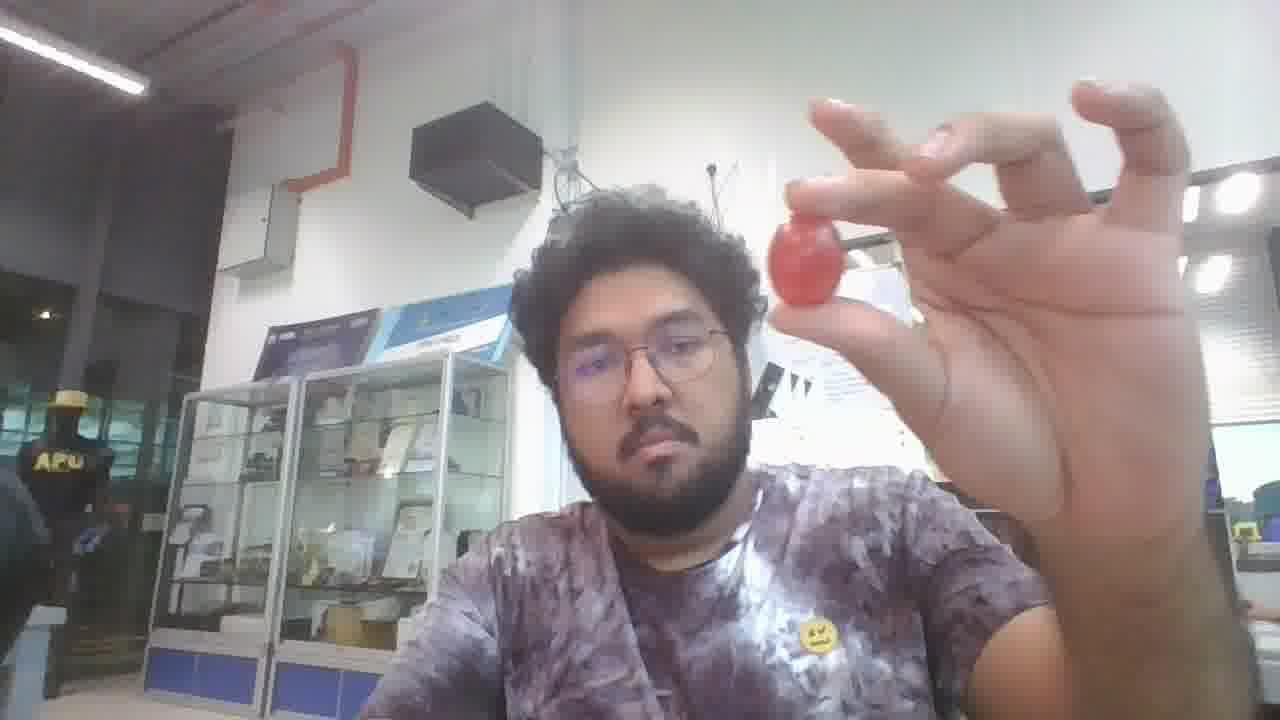red_cherry_tomato: (767, 216, 845, 304)
